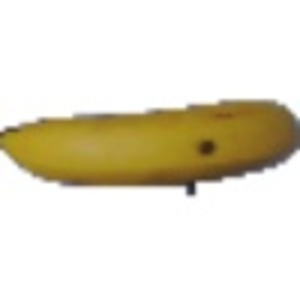banana: (4, 93, 298, 192)
